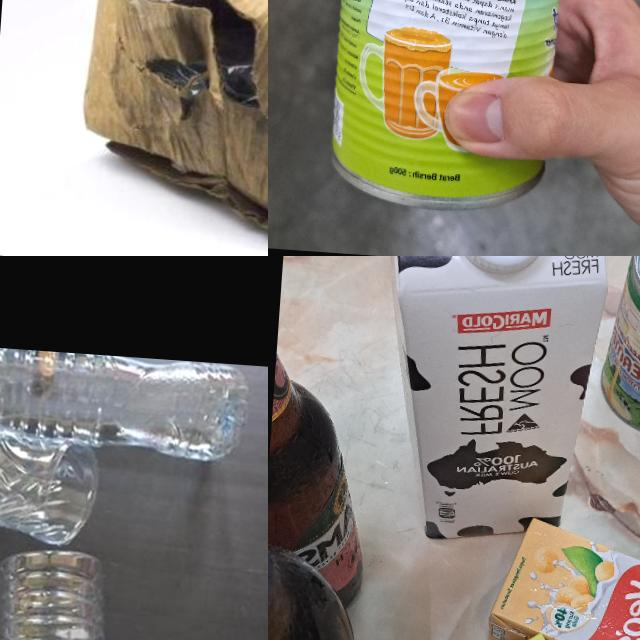caixinha: (355, 256, 616, 551), (480, 513, 640, 640), (453, 256, 549, 277)
garrafa de vidro: (268, 334, 375, 608)
garrafa plástica: (0, 340, 247, 461), (0, 417, 102, 548), (0, 545, 124, 640)
lata: (322, 0, 572, 217)
papelão: (72, 0, 268, 256)
